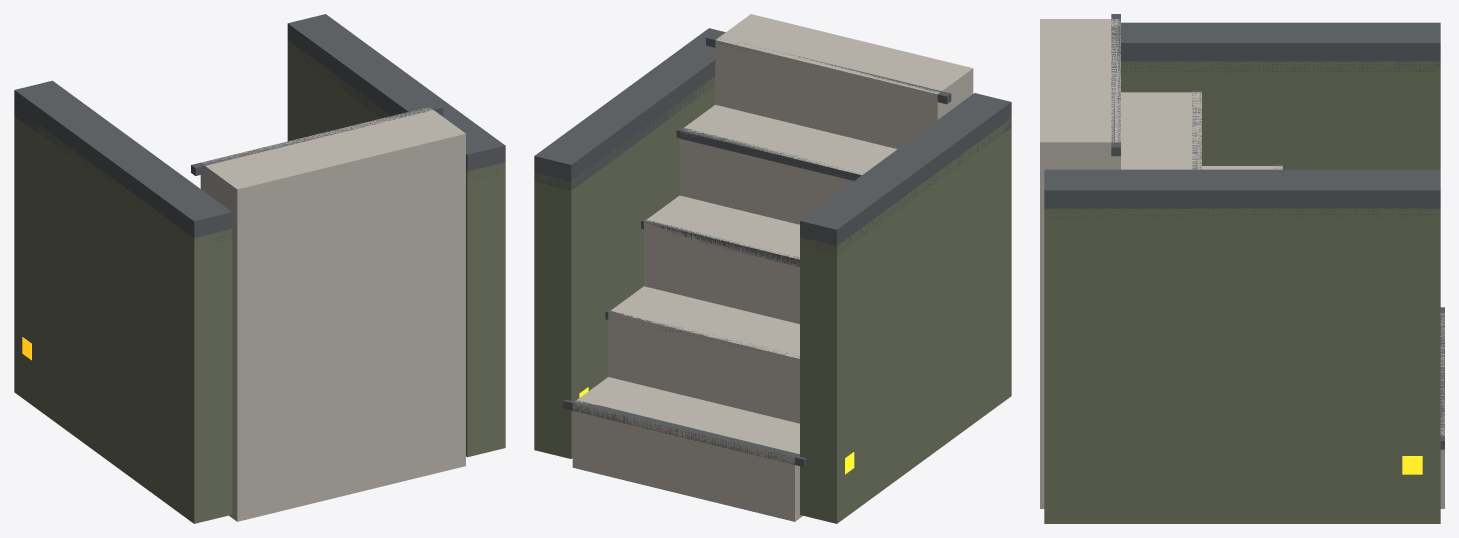
File: stairs.glb
3 views of the same model, side by side, from view 1: azimuth 30°, elevation 25°; view 2: azimuth 150°, elevation 25°; view 3: azimuth 270°, elevation 25° (orthographic). The views are drawn at different scales.
Parts seen in each view (by area): view 1: stair_concrete_step_4, stair_side_rail_-0.43, stair_side_rail_0.43, stair_side_top_-0.43, stair_side_top_0.43, stair_dark_nosing_4; view 2: stair_side_rail_-0.43, stair_side_rail_0.43, stair_concrete_step_4, stair_concrete_step_0, stair_concrete_step_1, stair_concrete_step_3, stair_concrete_step_2, stair_side_top_-0.43, stair_side_top_0.43, stair_dark_nosing_0, stair_dark_nosing_3, stair_dark_nosing_2 (+1 smaller); view 3: stair_side_rail_0.43, stair_side_rail_-0.43, stair_side_top_0.43, stair_side_top_-0.43, stair_concrete_step_4, stair_concrete_step_3, stair_dark_nosing_4, stair_dark_nosing_0, stair_concrete_step_0, stair_dark_nosing_3.
Part boxes in pixels (x1,y1,x2,y2): stair_concrete_step_4: (200,107,465,521); stair_side_rail_-0.43: (14,116,232,523); stair_side_rail_0.43: (287,40,505,457); stair_side_top_-0.43: (14,80,232,245); stair_side_top_0.43: (287,14,505,180); stair_dark_nosing_4: (191,104,443,175); stair_side_rail_-0.43: (800,118,1011,523); stair_side_rail_0.43: (534,76,715,458); stair_concrete_step_4: (715,14,973,148); stair_concrete_step_0: (572,377,802,521); stair_concrete_step_1: (608,286,799,423); stair_concrete_step_3: (679,105,897,224); stair_concrete_step_2: (644,195,799,324); stair_side_top_-0.43: (800,93,1011,254); stair_side_top_0.43: (534,28,725,190); stair_dark_nosing_0: (563,399,805,467); stair_dark_nosing_3: (676,127,861,180); stair_dark_nosing_2: (641,217,799,266); stair_side_rail_0.43: (1044,208,1440,523); stair_side_rail_-0.43: (1121,61,1440,169); stair_side_top_0.43: (1044,169,1440,219); stair_side_top_-0.43: (1121,22,1440,72); stair_concrete_step_4: (1040,19,1120,508); stair_concrete_step_3: (1121,92,1201,169); stair_dark_nosing_4: (1111,14,1120,156); stair_dark_nosing_0: (1440,307,1444,449); stair_concrete_step_0: (1440,313,1444,508); stair_dark_nosing_3: (1192,90,1201,169).
Bounding box in the file's own units: 0.982 × 1 × 1.
